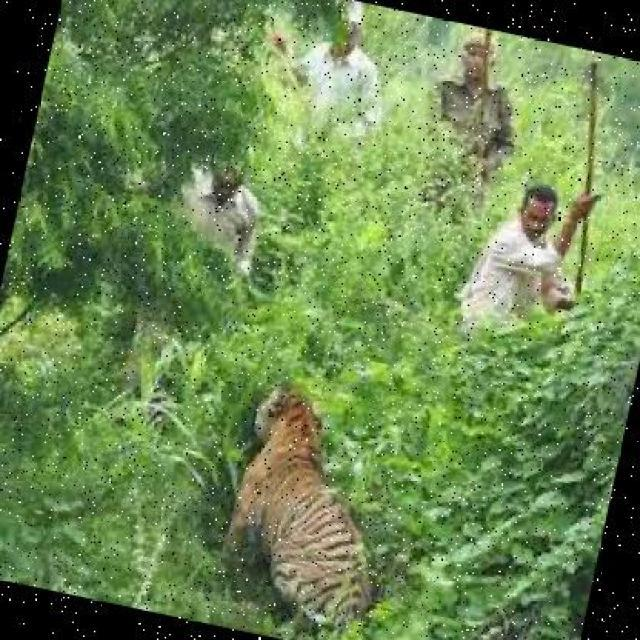Tiger: (209, 380, 385, 629)
